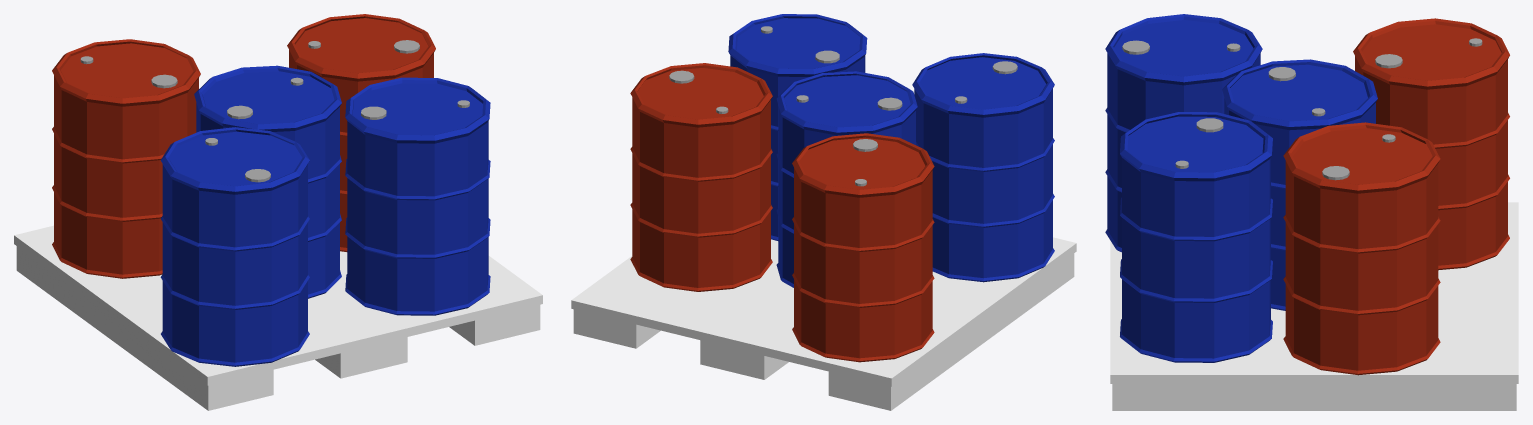
File: DrumOnPlastic3_3 (1).fbx
3 views of the same model, side by side, from view 1: azimuth 30°, elevation 25°; view 2: azimuth 150°, elevation 25°; view 3: azimuth 270°, elevation 25° (orthographic). The views are drawn at different scales.
Visible parts, largest first — view 1: Cylinder.009; view 2: Cylinder.009; view 3: Cylinder.009.
Boxes of the visible parts, box(x1,y1,x2,y2) form: Cylinder.009: box(14, 14, 542, 410); Cylinder.009: box(571, 14, 1076, 410); Cylinder.009: box(1105, 14, 1518, 410).
Bounding box in the file's own units: 203 × 122 × 203.
